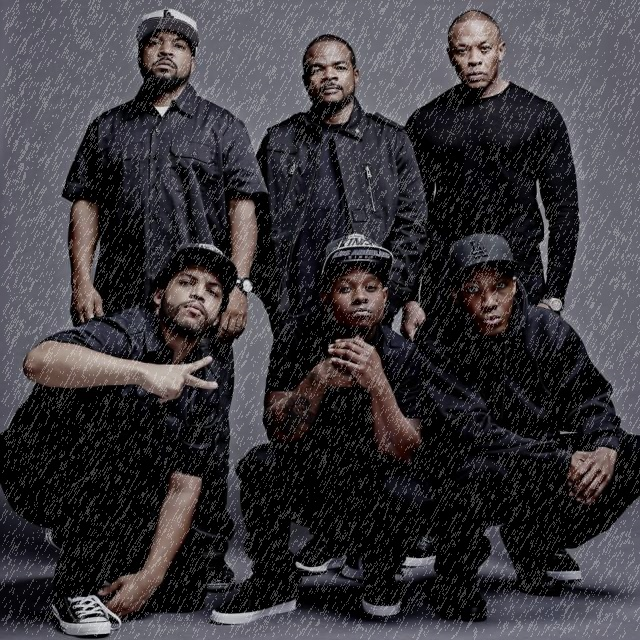pessoa: (58, 3, 269, 594), (393, 8, 584, 582), (240, 31, 430, 581), (0, 240, 241, 639), (406, 230, 640, 624), (205, 231, 428, 626)
